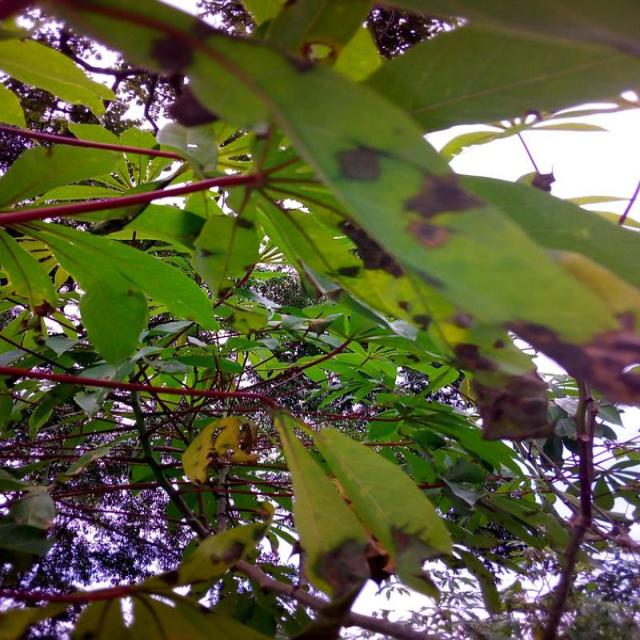cassava leaf: (8, 0, 639, 438), (271, 406, 454, 607)
